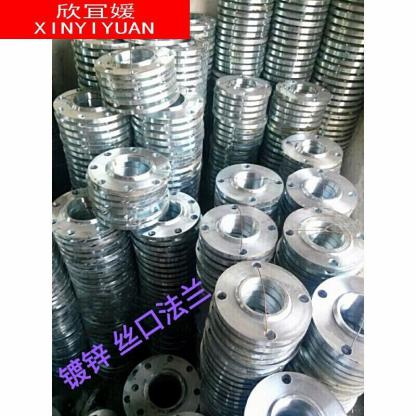FOD: (87, 144, 174, 198), (217, 161, 282, 209)
